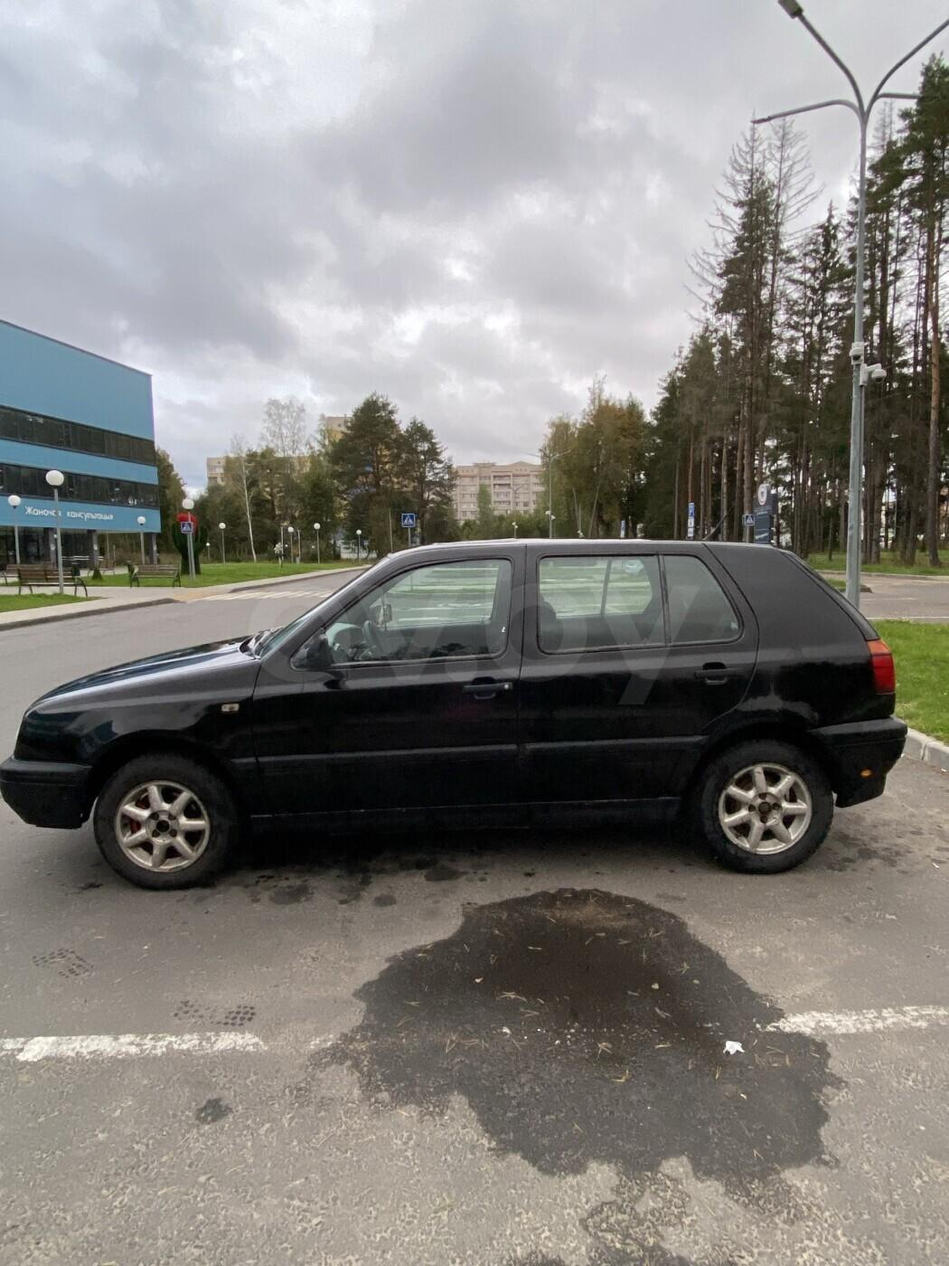Golf_1991-2000: (0, 529, 903, 895)
